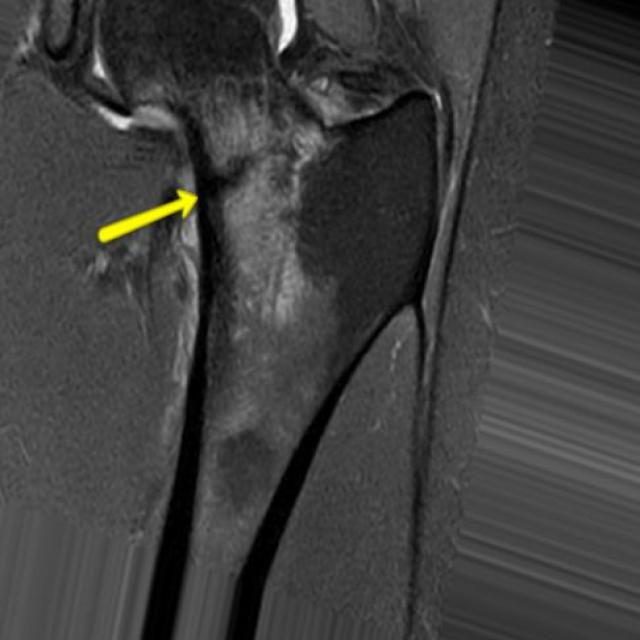Transverse Displaced: (202, 116, 324, 200)
